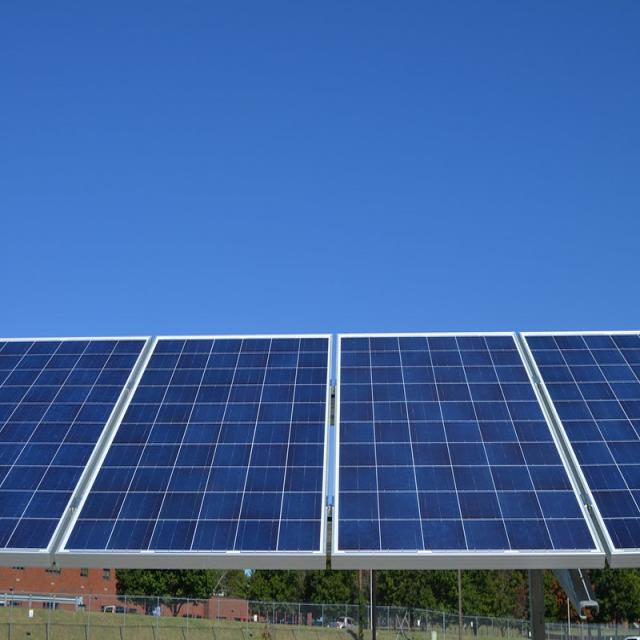no faulty: (346, 338, 635, 565), (115, 336, 343, 564), (7, 334, 111, 551)
